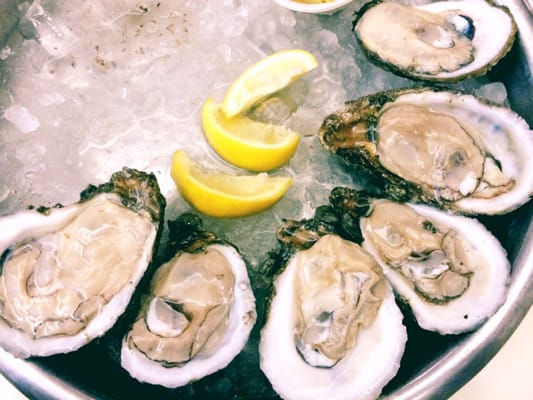curry: (80, 168, 166, 261), (79, 168, 166, 227)
pasta: (170, 148, 294, 218)
taco: (201, 97, 302, 172)
